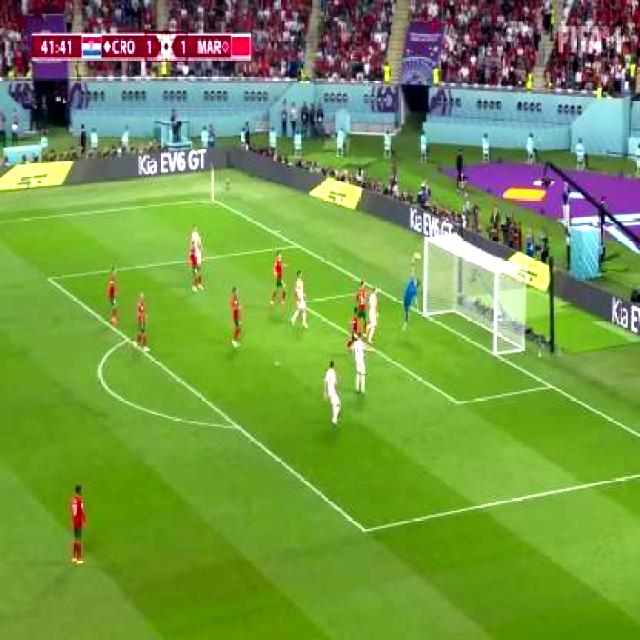bigarea_bottom_inner: (355, 517, 374, 546)
bigarea_top_inner: (41, 266, 57, 292)
bigarea_top_outter: (290, 238, 304, 256)
bottom_arc_area_intersection: (229, 417, 245, 440)
corner: (206, 193, 217, 204)
smallarea_bottom_inner: (448, 392, 468, 416)
smallarea_bottom_outter: (542, 378, 560, 396)
top_arc_area_intersection: (121, 330, 134, 348)
